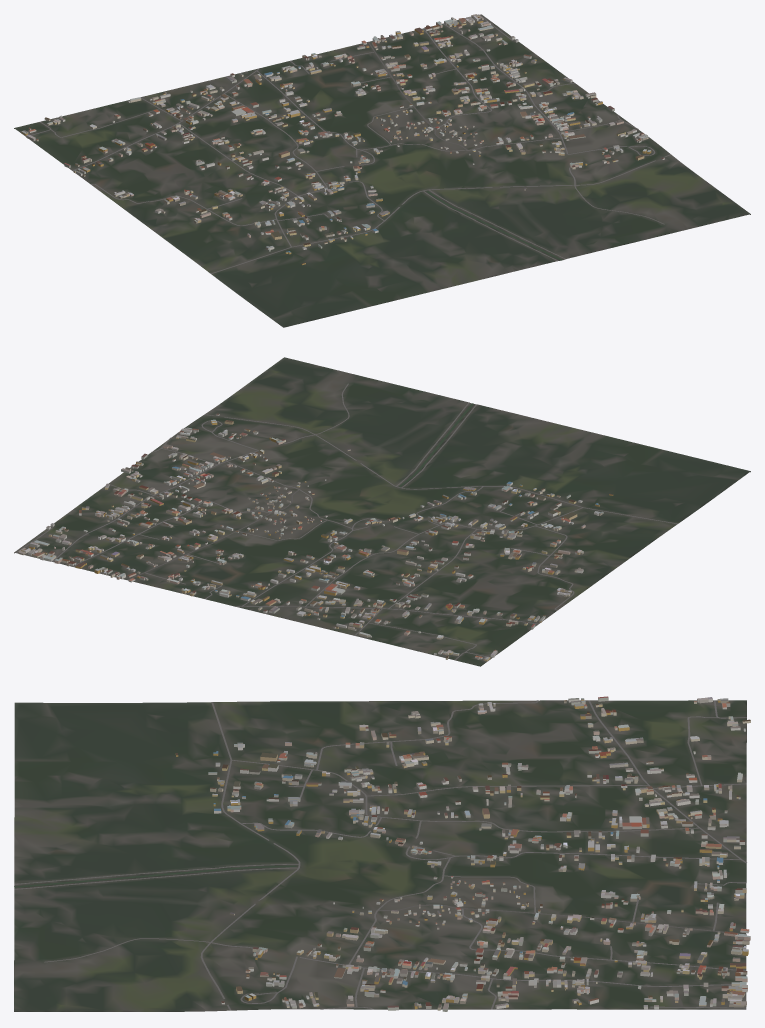
3 renders of one model, top to bottom at view 1: azimuth 30°, elevation 25°; view 2: azimuth 150°, elevation 25°; view 3: azimuth 270°, elevation 25°, orthographic. The views are drawn at different scales.
Parts seen in each view (by area): view 1: ground, buildings, roads; view 2: ground, buildings, roads; view 3: ground, buildings, roads, water.
Part boxes in pixels (x1,y1,x2,y2): ground: (14,14,750,327); buildings: (21,14,664,264); roads: (26,15,671,273); ground: (14,357,750,666); buildings: (18,413,613,661); roads: (16,383,677,660); ground: (14,700,746,1011); buildings: (175,696,750,1011); roads: (14,700,746,1010); water: (14,865,296,887).
Bounding box in the file's own units: 1412 × 20.14 × 1410.
